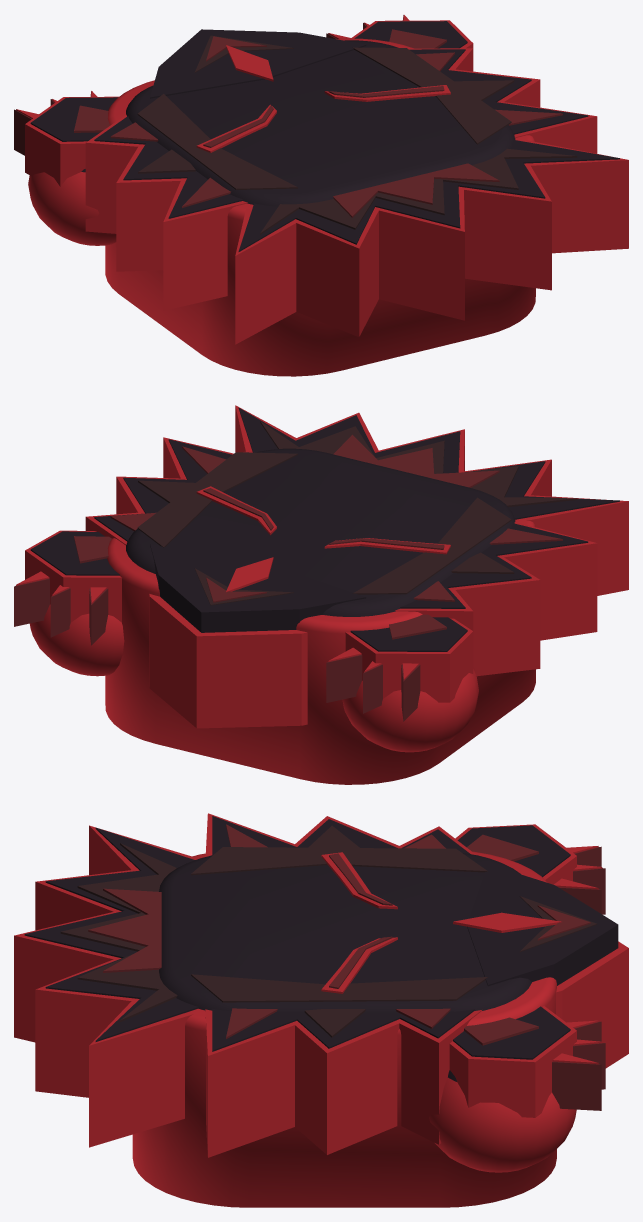
The model's file is body_espectro.fbx.
3 views of the same model, one above another, from view 1: azimuth 30°, elevation 25°; view 2: azimuth 150°, elevation 25°; view 3: azimuth 270°, elevation 25° (orthographic). The views are drawn at different scales.
Parts seen in each view (by area): view 1: body_espectro_corpo, body_espectro_mao_esq, body_espectro_mao; view 2: body_espectro_corpo, body_espectro_mao_esq, body_espectro_mao; view 3: body_espectro_corpo, body_espectro_mao, body_espectro_mao_esq.
Boxes of the visible parts, box(x1,y1,x2,y2) form: body_espectro_corpo: box(85, 29, 628, 376); body_espectro_mao_esq: box(14, 91, 118, 245); body_espectro_mao: box(326, 15, 473, 48); body_espectro_corpo: box(85, 405, 628, 784); body_espectro_mao_esq: box(326, 614, 478, 752); body_espectro_mao: box(14, 530, 124, 676); body_espectro_corpo: box(14, 813, 628, 1207); body_espectro_mao: box(429, 1006, 605, 1172); body_espectro_mao_esq: box(455, 824, 605, 914).
Bounding box in the file's own units: 5.42 × 2.06 × 5.8.
1 material, 1 textured.
